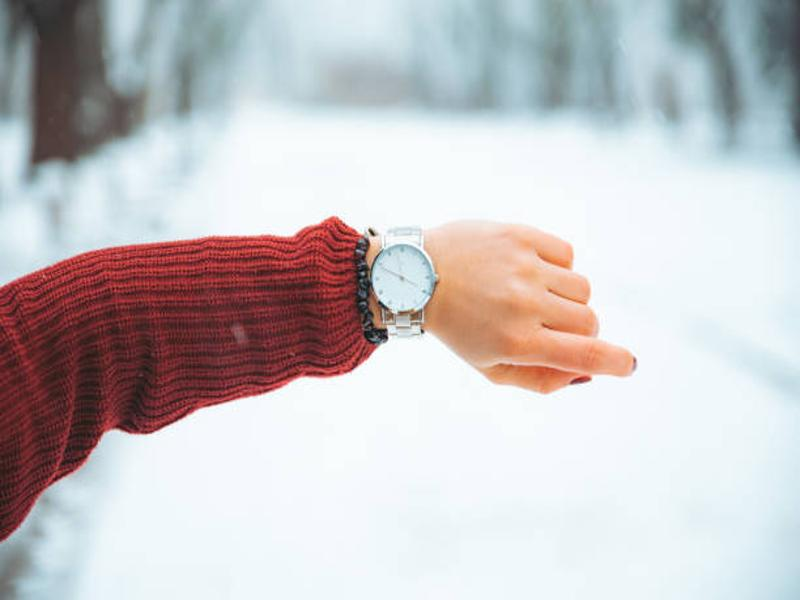watch: (368, 224, 441, 345)
